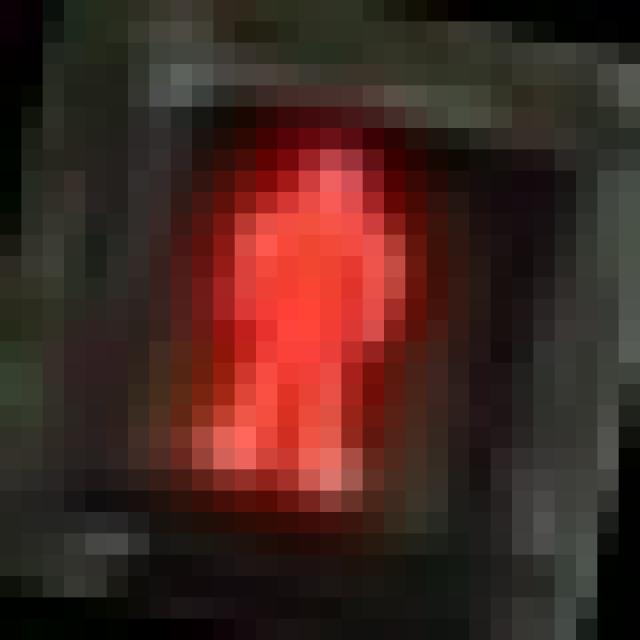red-crossing: (64, 42, 512, 534)
